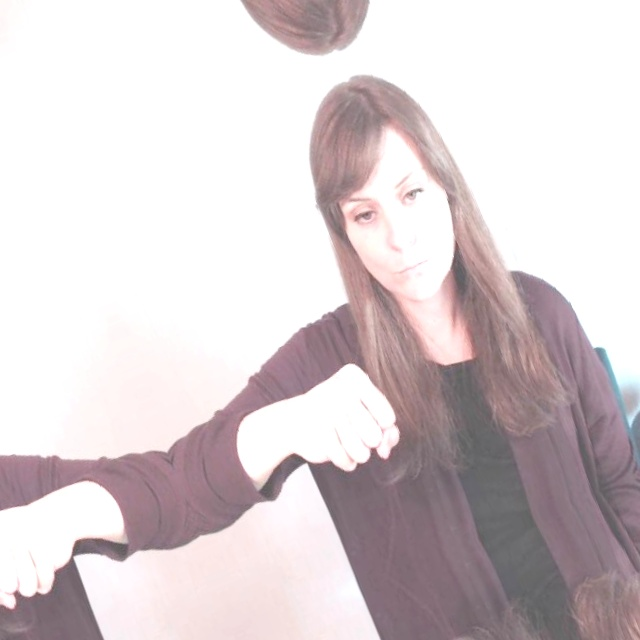Rock: (0, 480, 93, 617)
